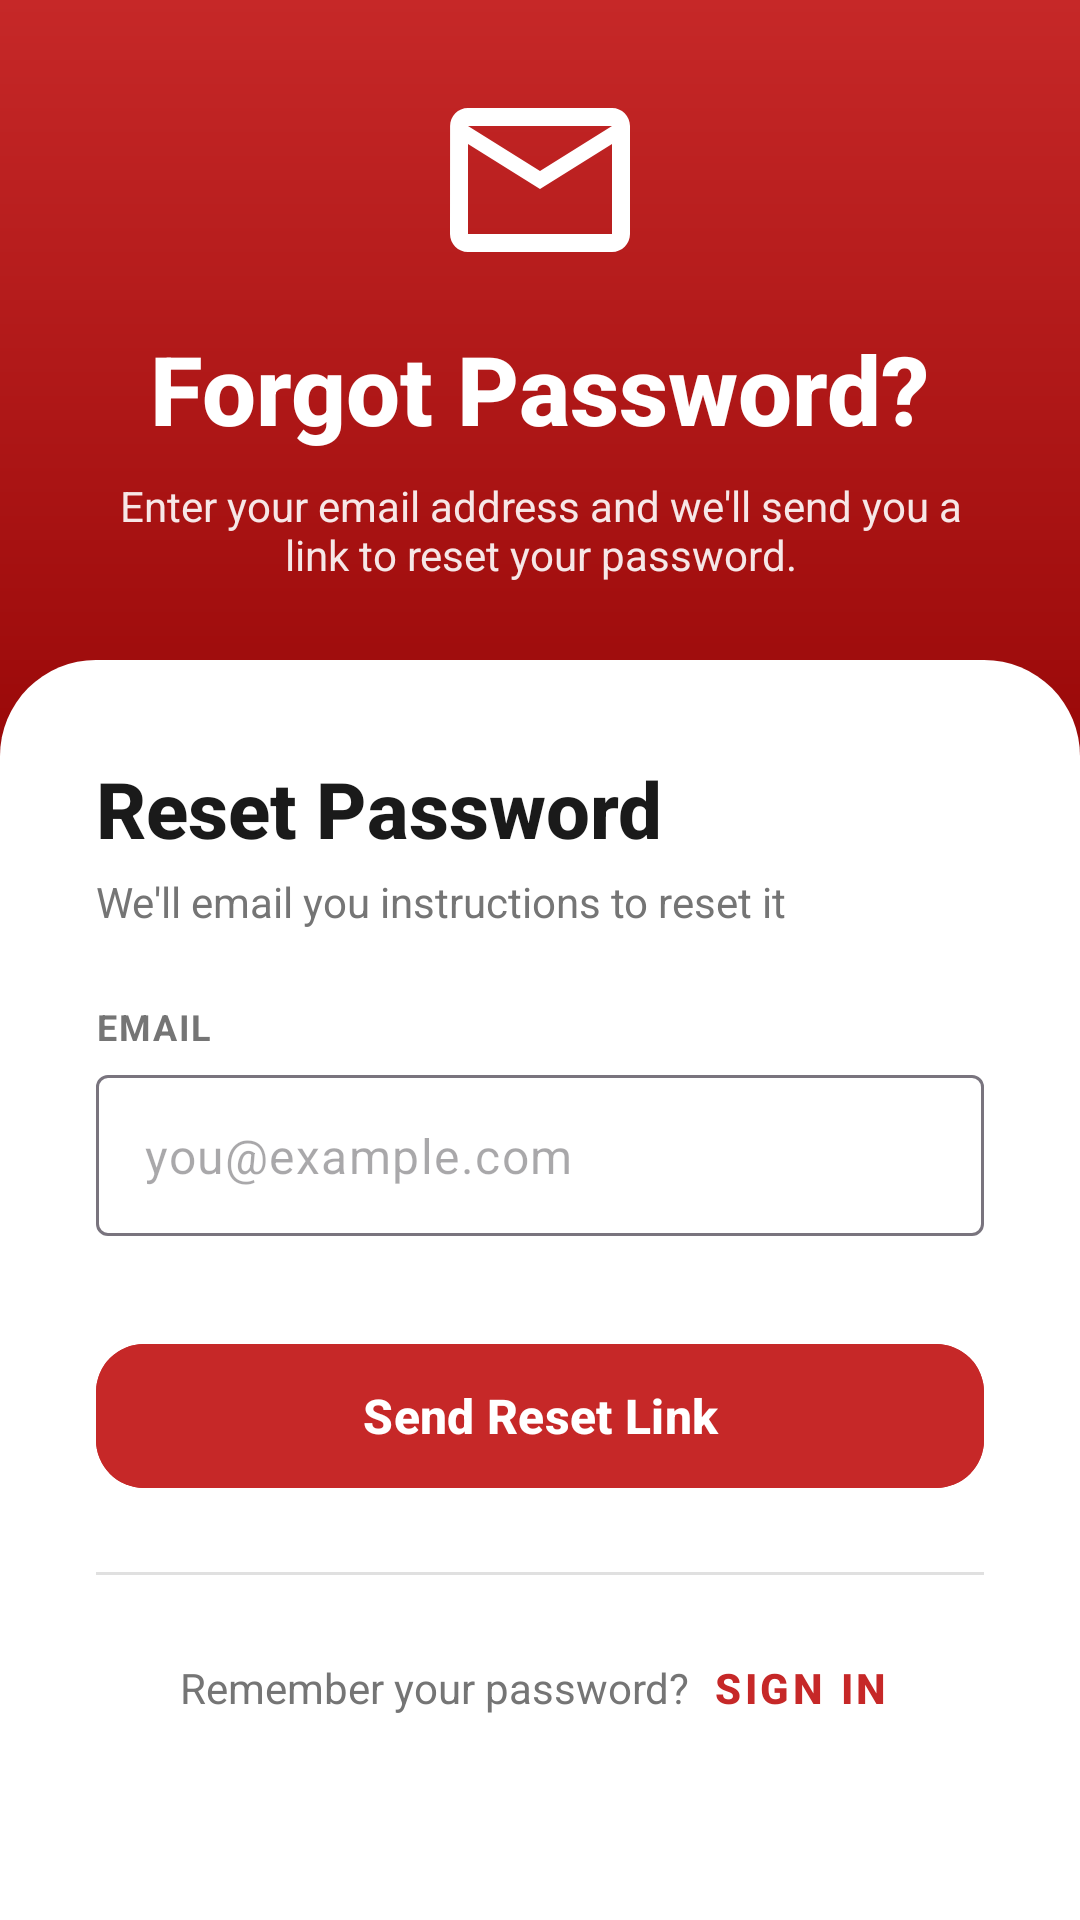

Icons on this 1080 x 1920 Android screen, each with its box as (x1, y1, x2, y2):
Email icon: (450, 108, 630, 252)
